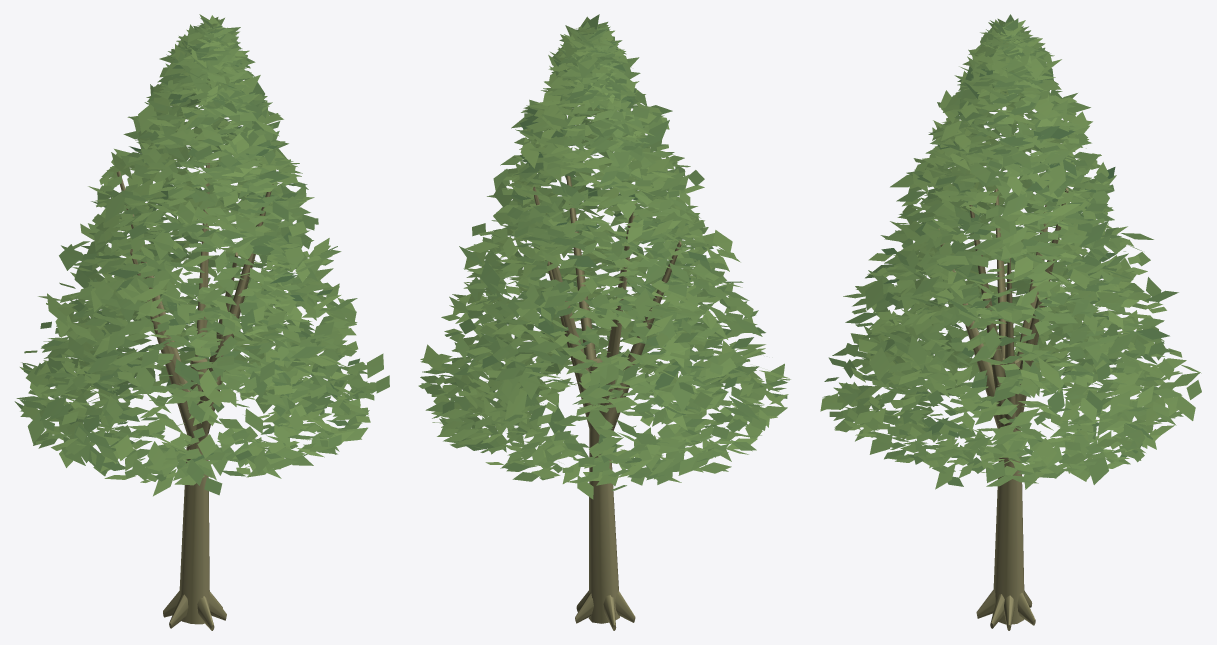
File: cedar_tree.glb
3 views of the same model, side by side, from view 1: azimuth 30°, elevation 25°; view 2: azimuth 150°, elevation 25°; view 3: azimuth 270°, elevation 25° (orthographic).
Visible parts, largest first — view 1: Canopy, Body; view 2: Canopy, Body; view 3: Canopy, Body.
Boxes of the visible parts, x1=… form: Canopy: x1=14, y1=14, x2=389, y2=496; Body: x1=116, y1=163, x2=273, y2=630; Canopy: x1=418, y1=14, x2=790, y2=499; Body: x1=533, y1=175, x2=681, y2=630; Canopy: x1=820, y1=14, x2=1201, y2=489; Body: x1=938, y1=186, x2=1068, y2=630.
Bounding box in the file's own units: 5.47 × 9.47 × 5.41.
